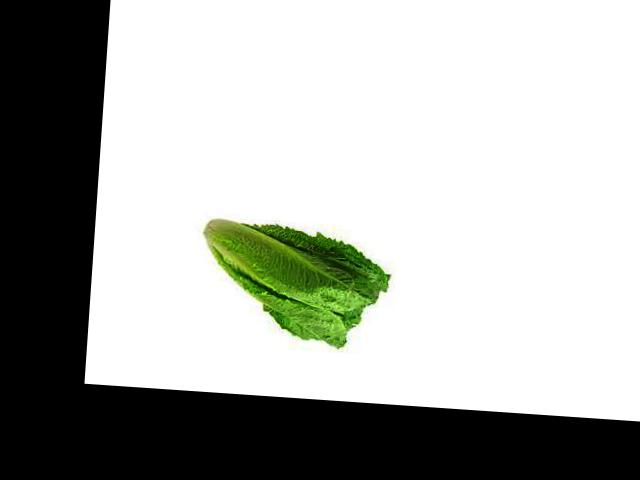lettuce: (210, 220, 379, 346)
